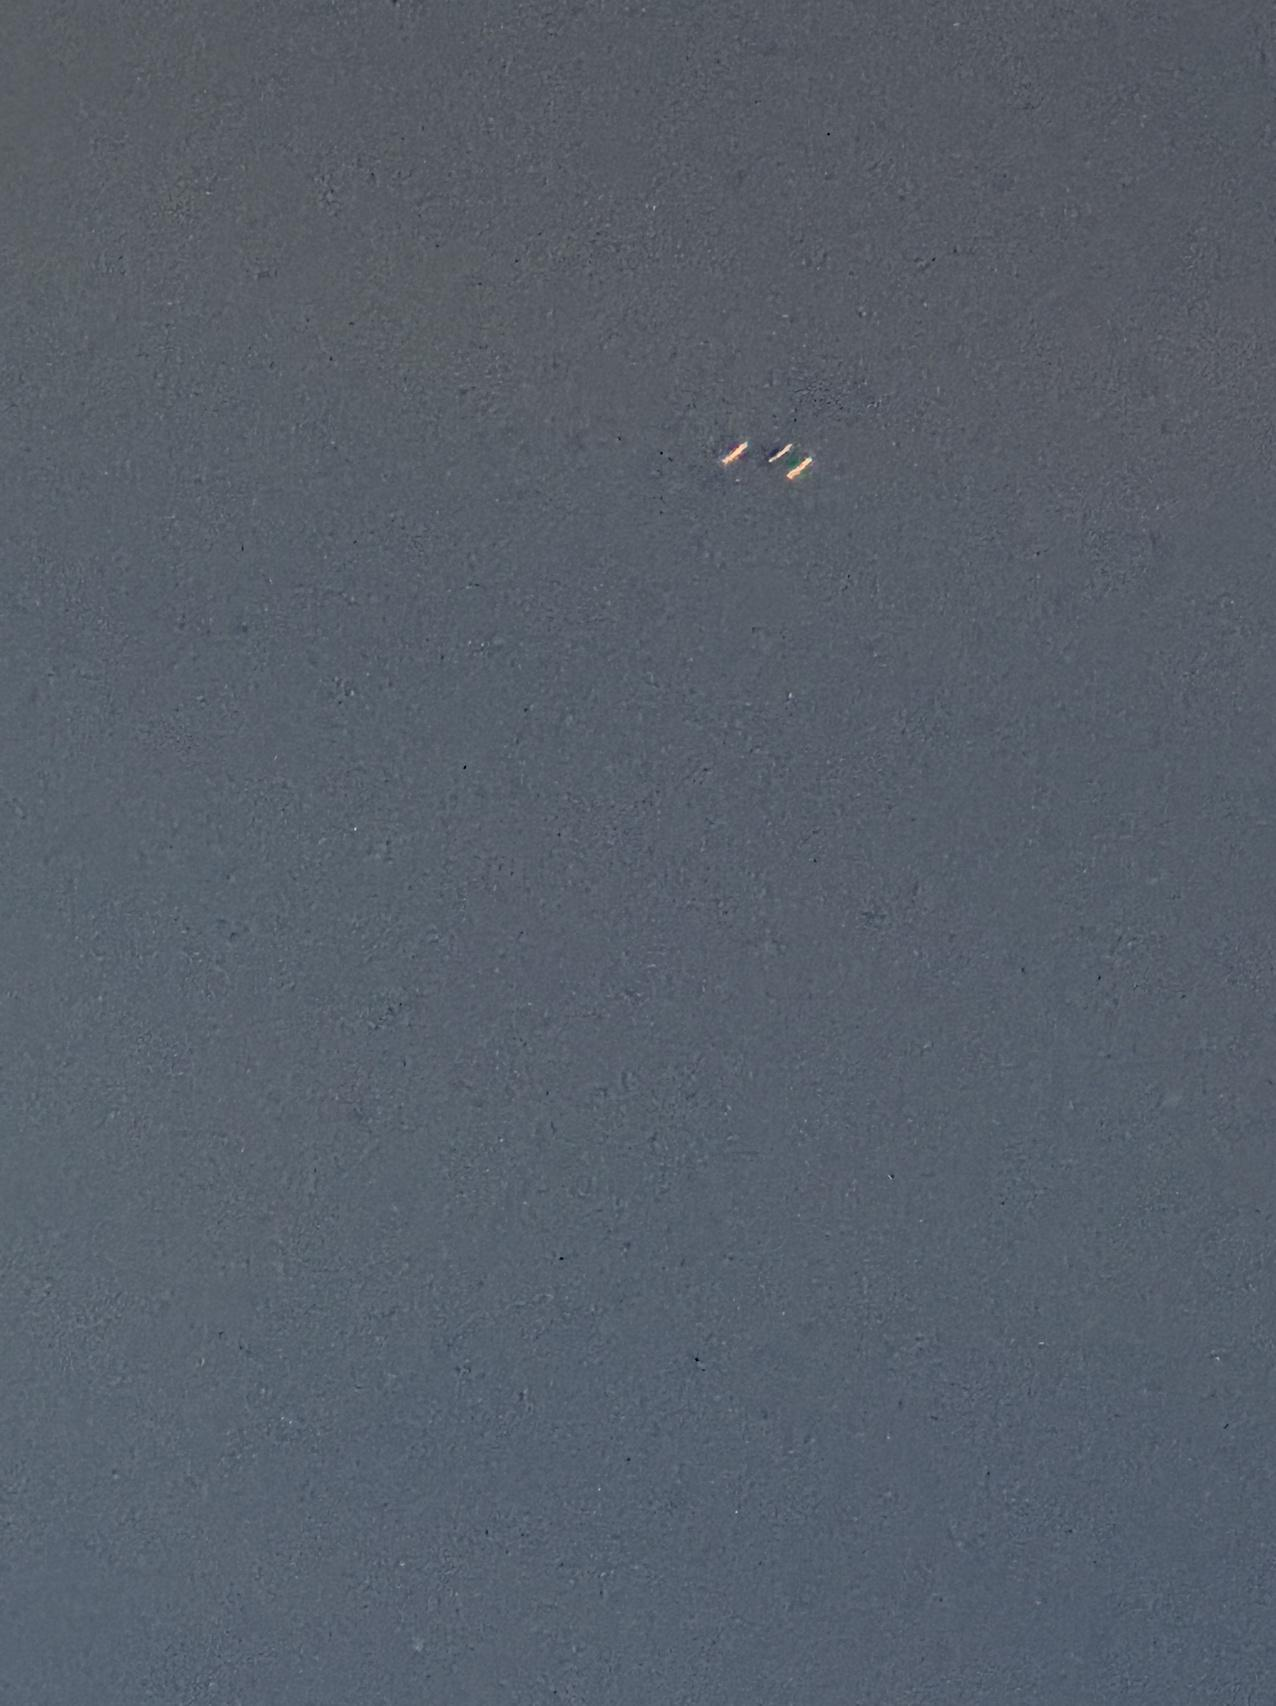Plane: (688, 415, 848, 499)
